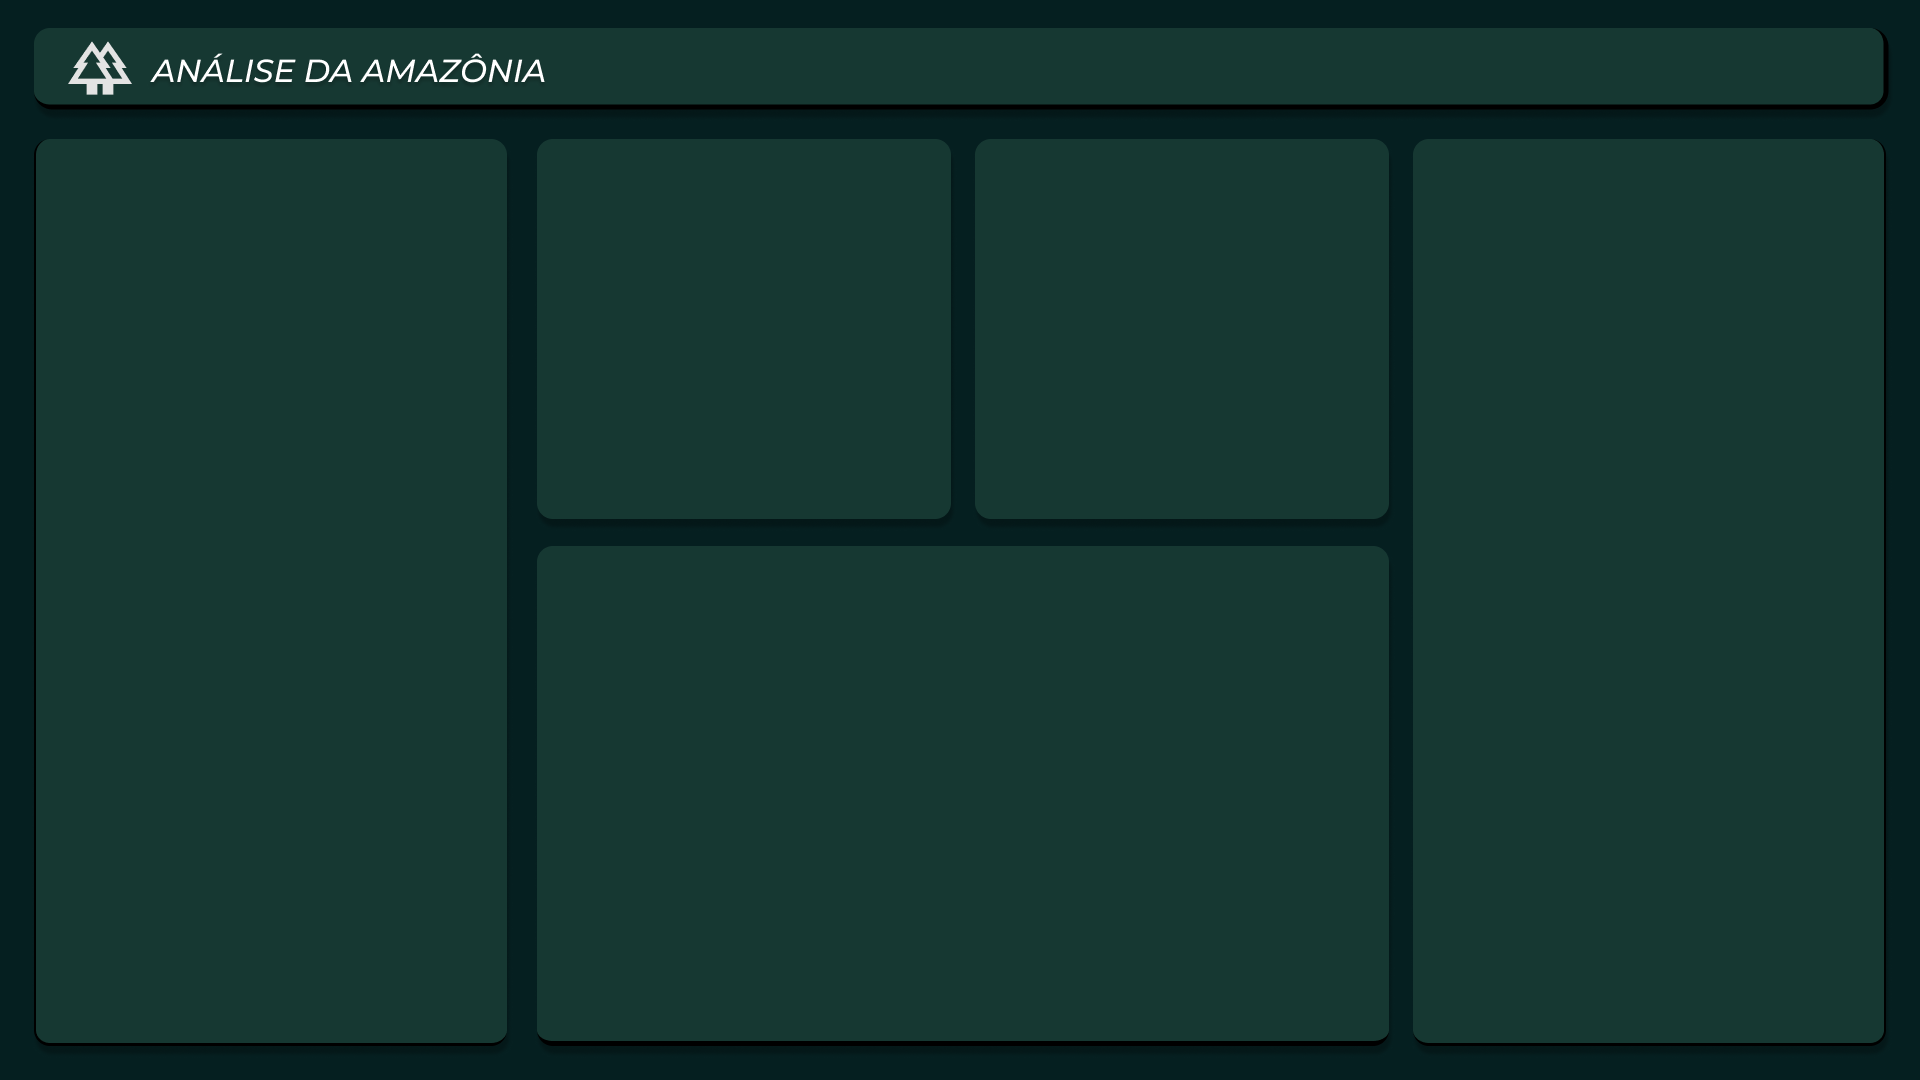

The page's visual inventory and layout, read from the dashboard file:
{"tool":"powerbi","page":{"name":"Dashboard","canvas":[1280,720],"ordinal":0},"visuals":[{"type":"slicer","title":"Data","fields":{"Values":["Tabela1.referencia"]},"box":[33.1,100.2,295.7,112.8],"z":0},{"type":"card","title":"Total do Desmatamento","fields":{"Values":["Sum(Tabela1.Valor)"]},"box":[328.8,137.1,333.6,155.6],"z":1000},{"type":"card","title":"Média do Desmatamento","fields":{"Values":["Tabela1.Media do total do Desmatamento"]},"box":[642.9,137.1,294.7,155.6],"z":2000},{"type":"lineChart","title":"Soma do Desmatamento ao Longo dos Anos","fields":{"Category":["Tabela1.referencia"],"Y":["Tabela1.Soma do desmatamento"]},"box":[314.2,359.9,659.5,332.6],"z":3000},{"type":"pivotTable","fields":{"Values":["Tabela1.Soma do desmatamento"],"Rows":["Tabela1.referencia"],"Columns":["Tabela1.Estado"]},"box":[33.1,213,295.7,479.5],"z":4000},{"type":"filledMap","fields":{"Category":["Tabela1.Estado"]},"box":[951.2,96.3,296.7,596.2],"z":5000},{"type":"ScrollingTextVisual1448795304508","fields":{"Measure Absolute":["Tabela1.Soma do desmatamento"],"Category":["Tabela1.Estado"]},"box":[374.5,17.5,873.4,48.6],"z":6000}]}

Visuals, with their boxes in screenshot pixels (x1, y1, x2, y2), scaled from the page's 1280x720 canvas onto the 1920x1080 screenshot:
"Data" slicer: BBox(50, 150, 493, 320)
"Total do Desmatamento" card: BBox(493, 206, 994, 439)
"Média do Desmatamento" card: BBox(964, 206, 1406, 439)
"Soma do Desmatamento ao Longo dos Anos" lineChart: BBox(471, 540, 1461, 1039)
pivotTable - Tabela1.Soma do desmatamento x Tabela1.referencia: BBox(50, 320, 493, 1039)
filledMap - Tabela1.Estado: BBox(1427, 144, 1872, 1039)
ScrollingTextVisual1448795304508 - Tabela1.Soma do desmatamento x Tabela1.Estado: BBox(562, 26, 1872, 99)
